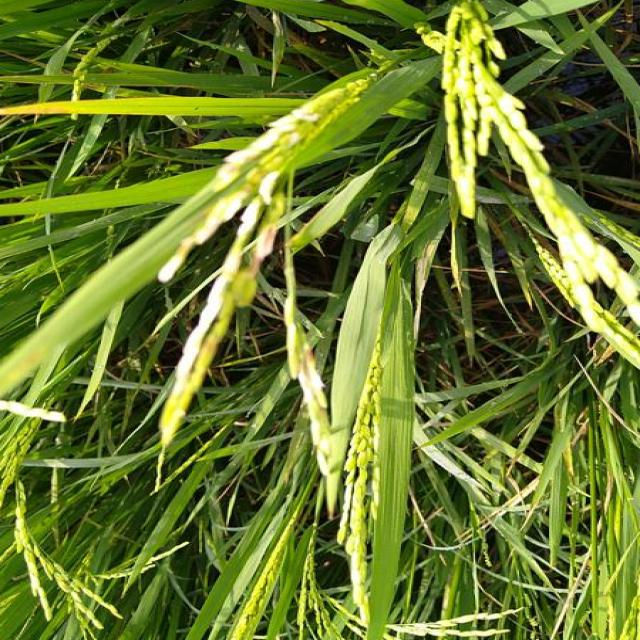Panicle Blight: (247, 150, 287, 203), (250, 206, 279, 276), (300, 337, 316, 382)
